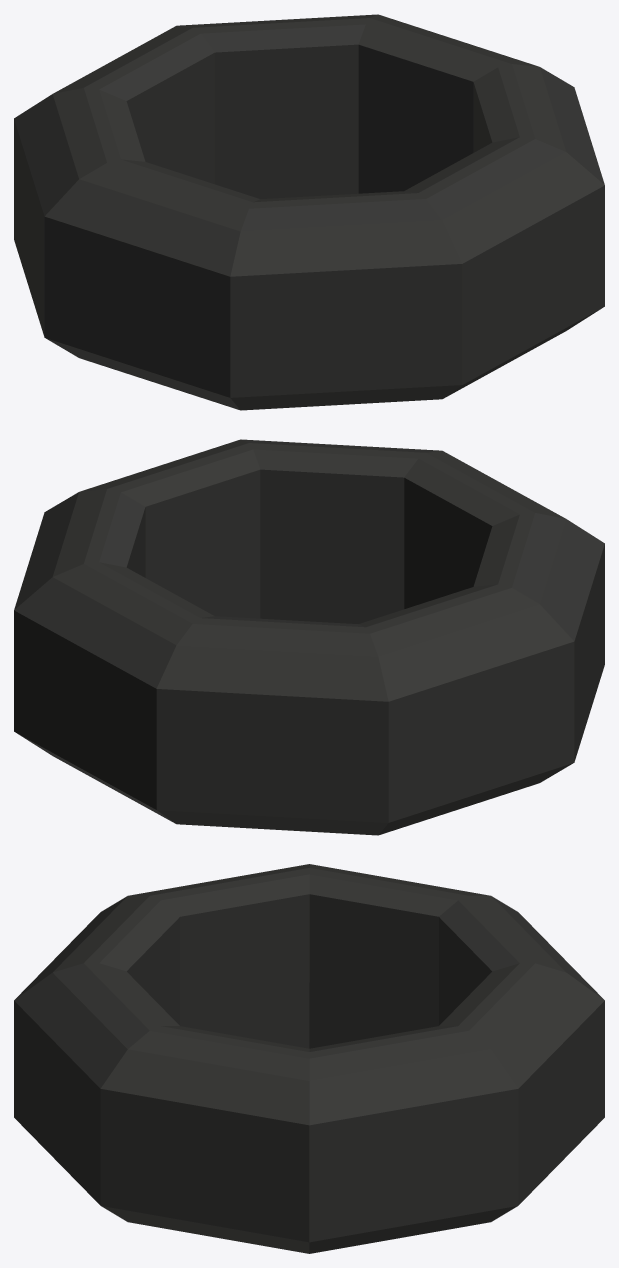
File: PorcaFerramenta02.fbx
3 renders of one model, top to bottom at view 1: azimuth 30°, elevation 25°; view 2: azimuth 150°, elevation 25°; view 3: azimuth 270°, elevation 25°, orthographic. The views are drawn at different scales.
Visible parts, largest first — view 1: Cylinder; view 2: Cylinder; view 3: Cylinder.
Boxes of the visible parts, x1,y1,x2,y2 form: Cylinder: [14, 14, 604, 410]; Cylinder: [14, 439, 604, 835]; Cylinder: [14, 864, 604, 1253].
Bounding box in the file's own units: 140 × 50.21 × 140.
